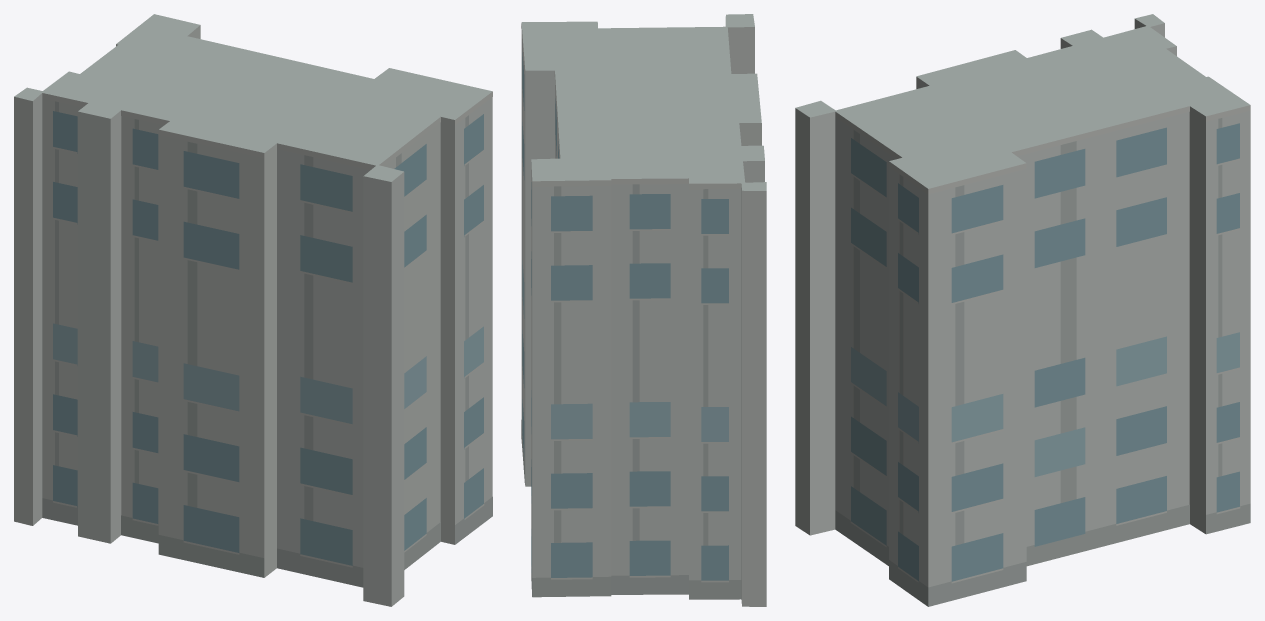
File: survey-upis-32759558.glb
3 views of the same model, side by side, from view 1: azimuth 30°, elevation 25°; view 2: azimuth 150°, elevation 25°; view 3: azimuth 270°, elevation 25° (orthographic). The views are drawn at different scales.
Visible parts, largest first — view 1: survey-upis-32759558.tmp; view 2: survey-upis-32759558.tmp; view 3: survey-upis-32759558.tmp.
Part boxes in pixels (<box>): survey-upis-32759558.tmp: <box>14,14,492,606</box>; survey-upis-32759558.tmp: <box>521,14,766,606</box>; survey-upis-32759558.tmp: <box>795,14,1250,606</box>.
Bounding box in the file's own units: 16.44 × 18.3 × 18.08.
